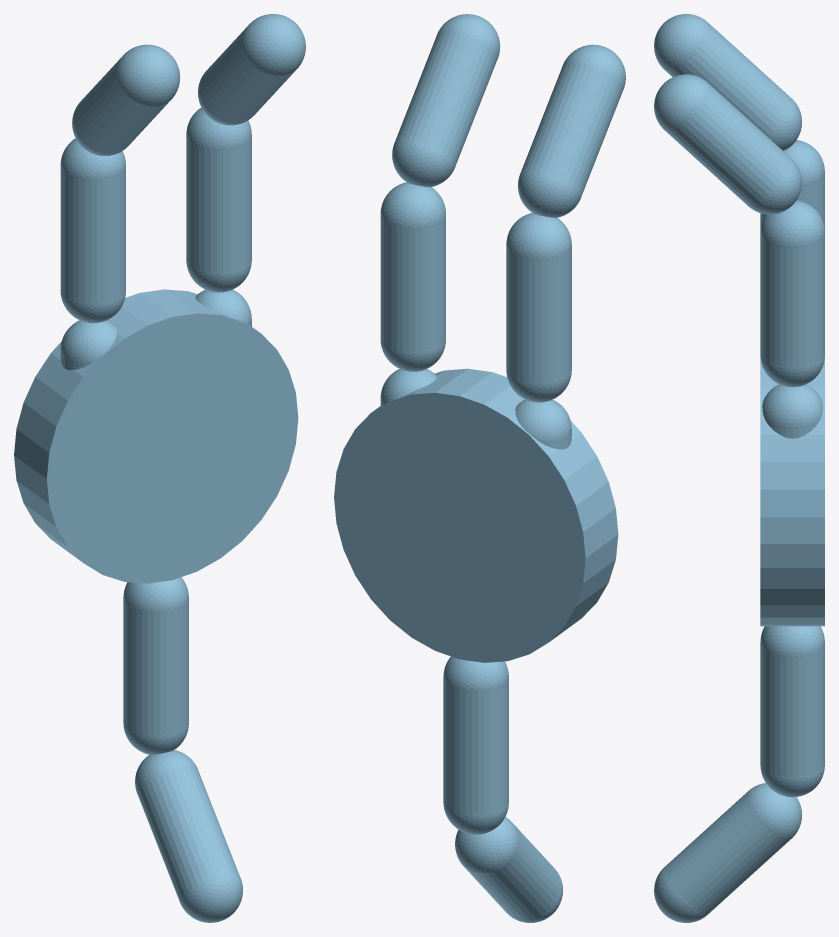
The model's file is barrett_hand_canonical.glb.
The picture shows the model from 3 angles, left to right: view 1: azimuth 30°, elevation 25°; view 2: azimuth 150°, elevation 25°; view 3: azimuth 270°, elevation 25°; orthographic projection.
Visible parts, largest first — view 1: world; view 2: world; view 3: world.
Part boxes in pixels (<box>): world: <box>14,14,305,922</box>; world: <box>334,14,625,922</box>; world: <box>654,14,824,922</box>.
Size of the model in its own units: 0.1 by 0.3372 by 0.0598.
